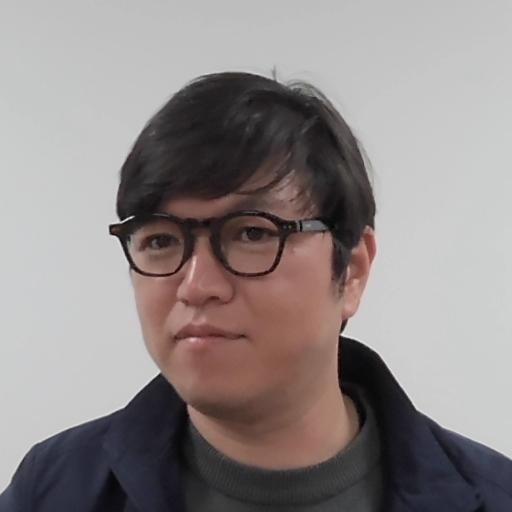no_glasses: (90, 66, 387, 417)
